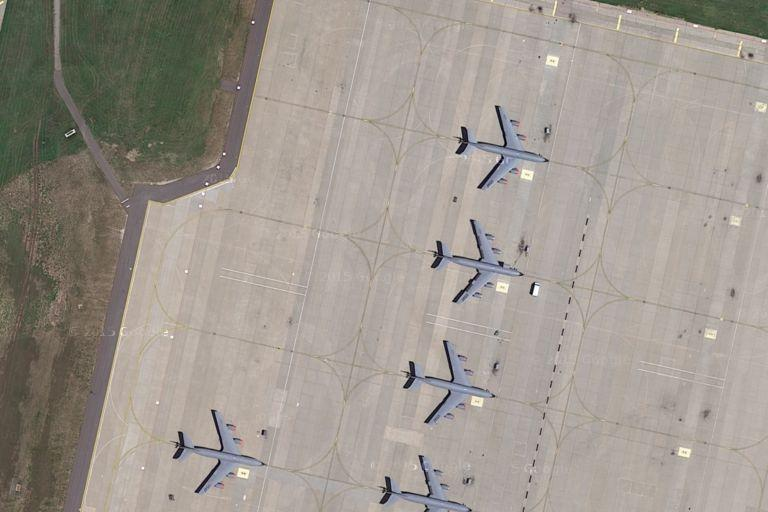KC-135: (452, 100, 548, 194), (401, 336, 497, 428), (168, 407, 267, 496), (426, 215, 522, 305), (381, 453, 477, 512)
